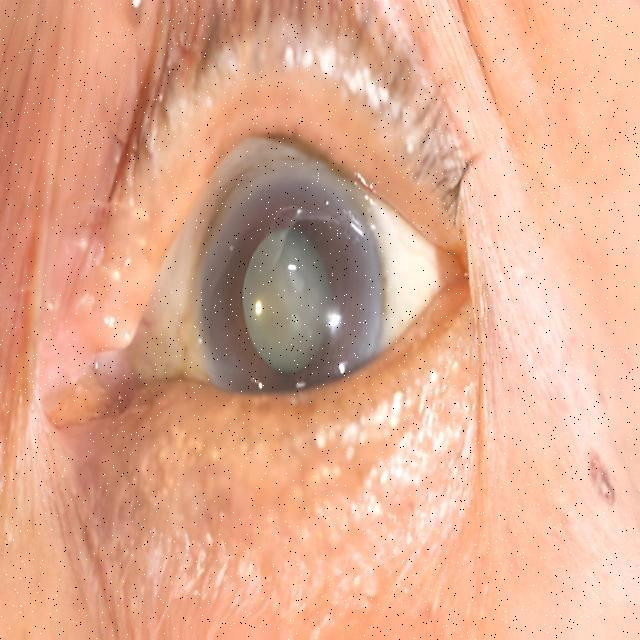Cataract: (180, 144, 403, 426)
